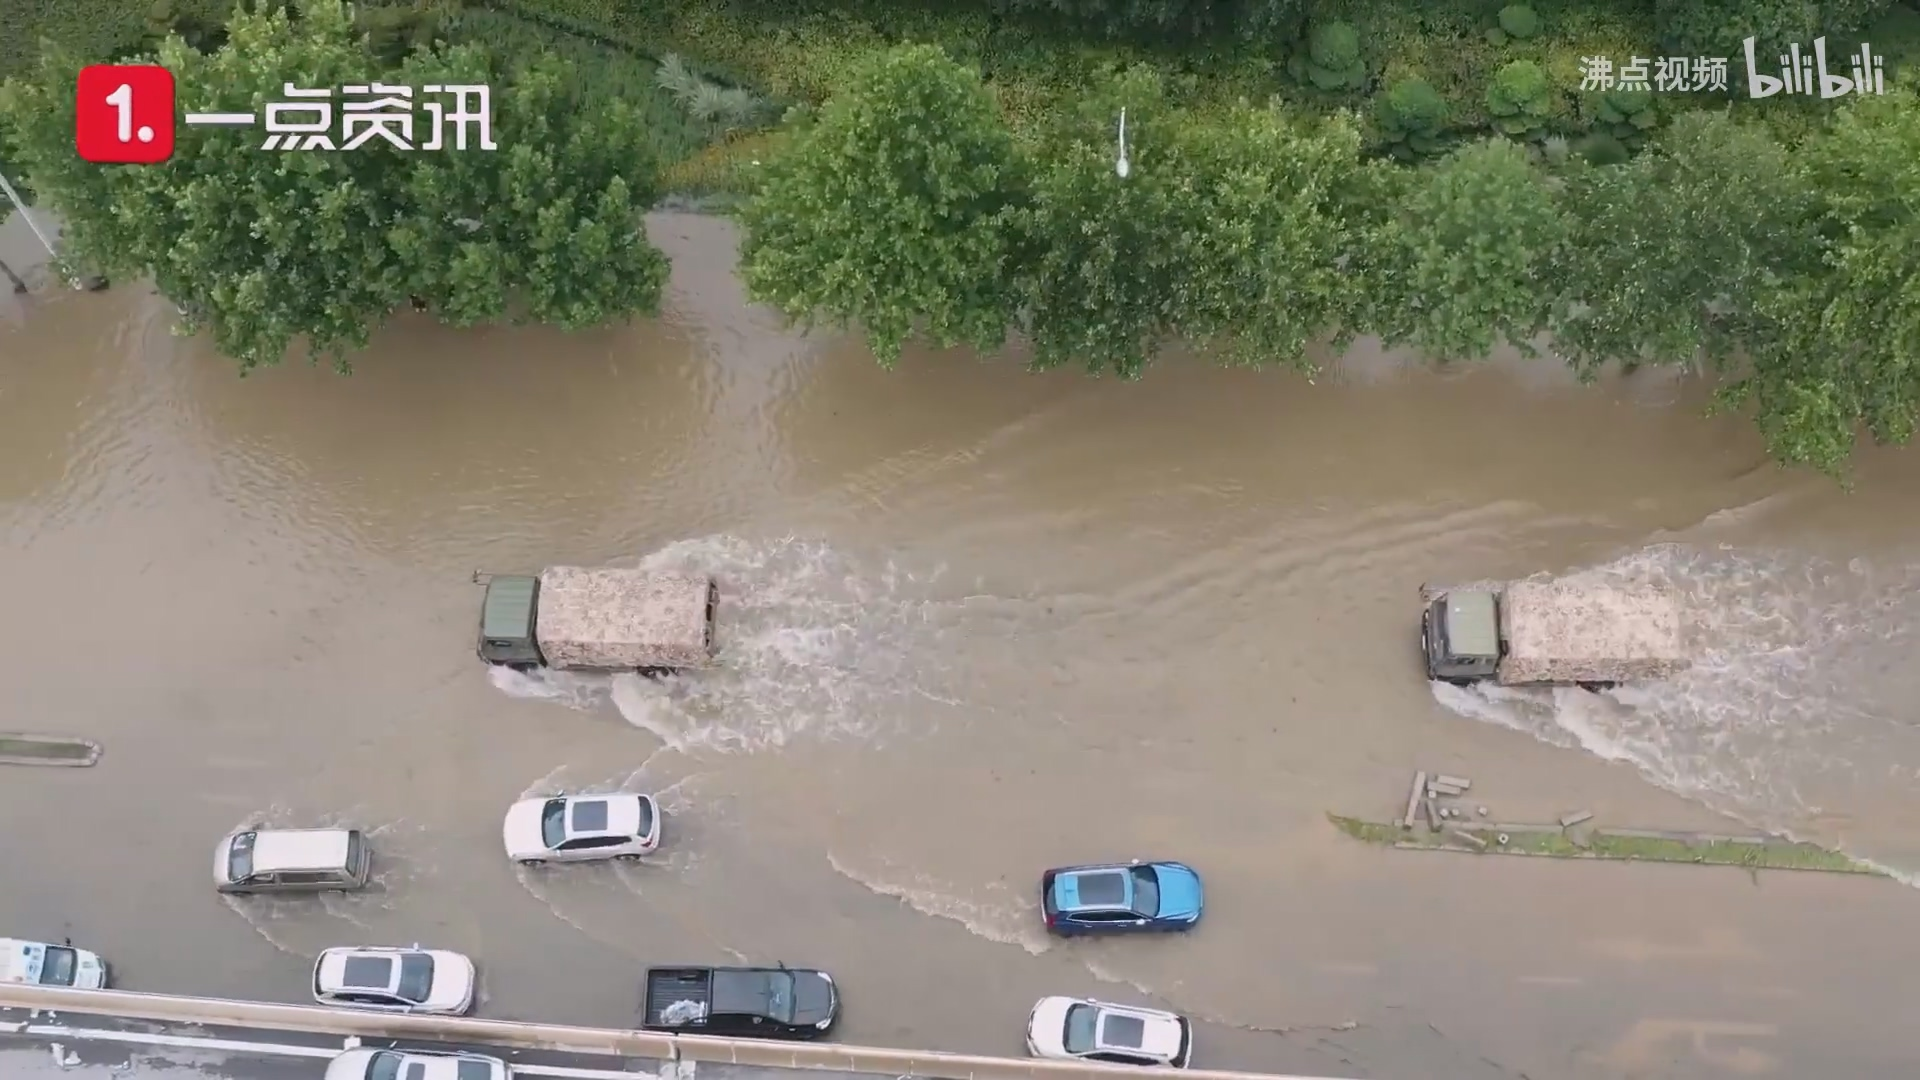puddle: (40, 306, 1913, 1080)
